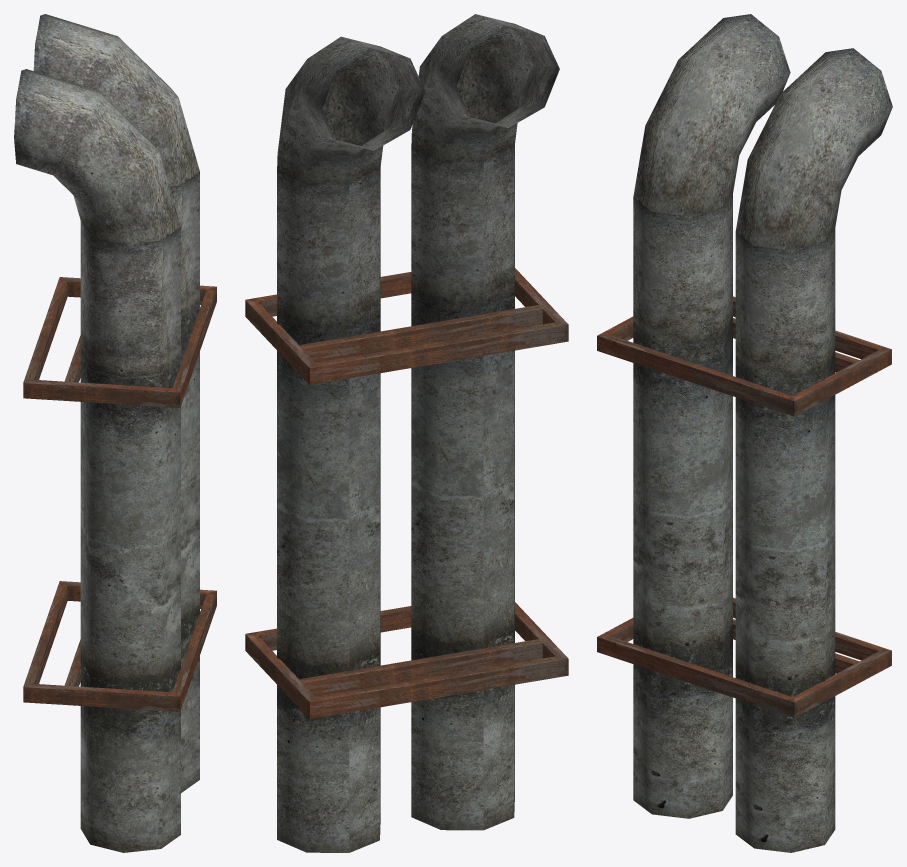
Rendered from Pipes_set_v1_V_set_v2 (1).glb.
3 renders of one model, left to right at view 1: azimuth 30°, elevation 25°; view 2: azimuth 150°, elevation 25°; view 3: azimuth 270°, elevation 25°, orthographic. The views are drawn at different scales.
Visible parts, largest first — view 1: Pipes_set_v1_V_set_v2 (1); view 2: Pipes_set_v1_V_set_v2 (1); view 3: Pipes_set_v1_V_set_v2 (1).
Part boxes in pixels (x1,y1,x2,y2): Pipes_set_v1_V_set_v2 (1): (14, 14, 216, 852); Pipes_set_v1_V_set_v2 (1): (245, 14, 568, 852); Pipes_set_v1_V_set_v2 (1): (597, 14, 892, 852).
Bounding box in the file's own units: 1.93 × 5.69 × 2.04.
Materials: 1 (1 with a texture image).
